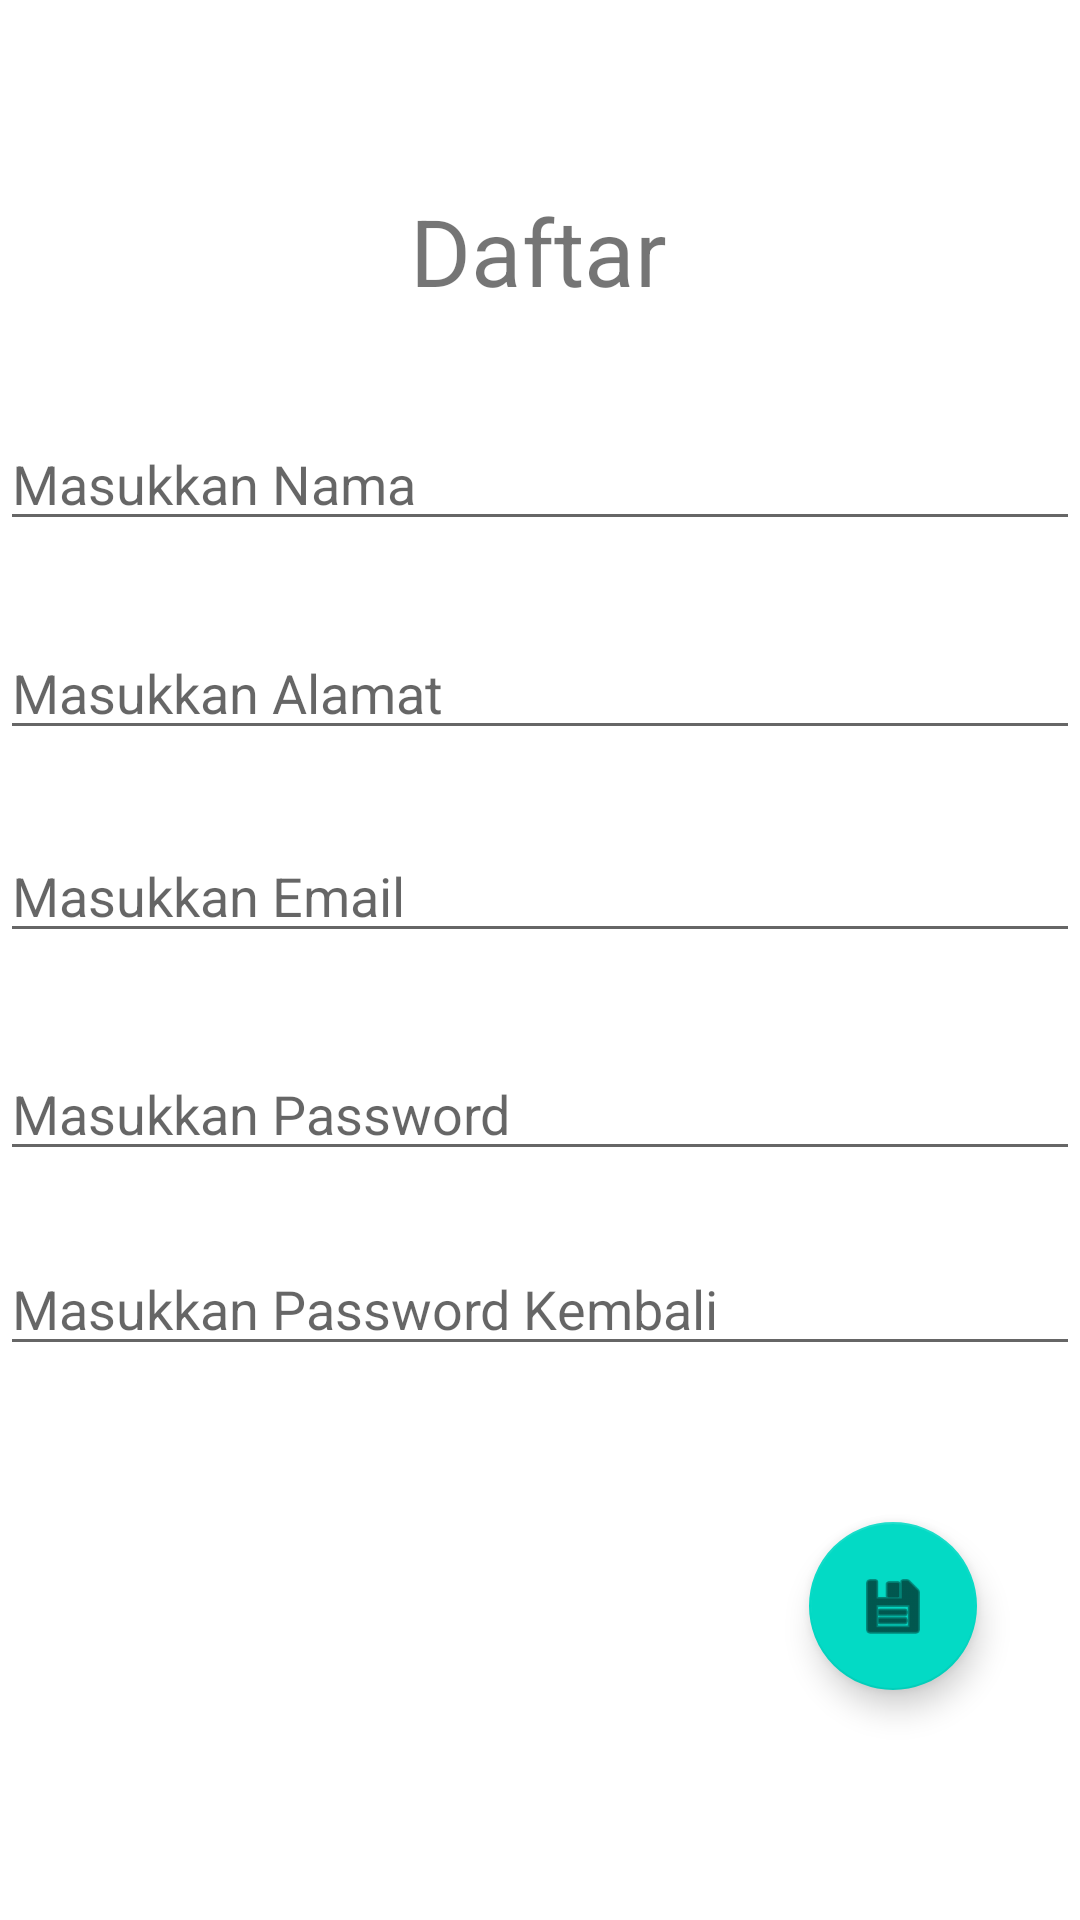

Icon bounding boxes for this 1080px×1920px phone screenshot, format [x1,y1,x2,y2]:
save: [809,1522,977,1690]
